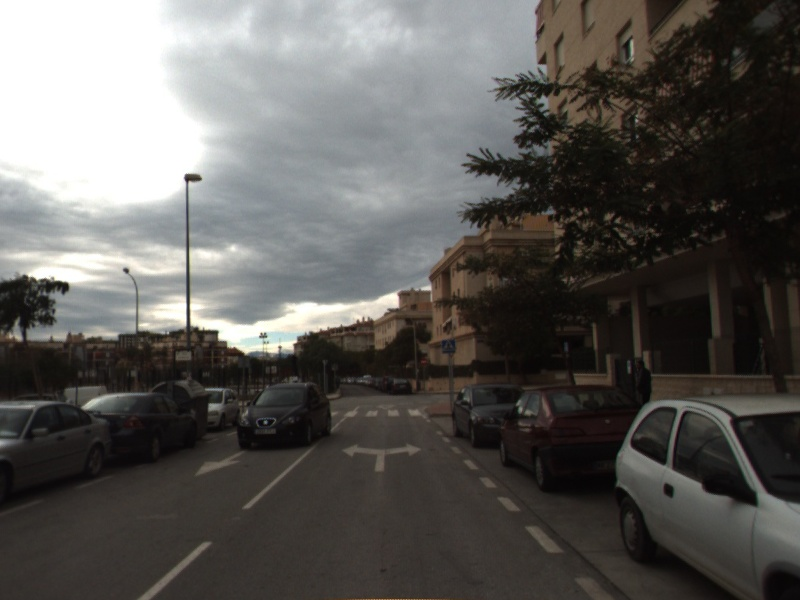LEFT_RIGHT: (340, 441, 424, 474)
